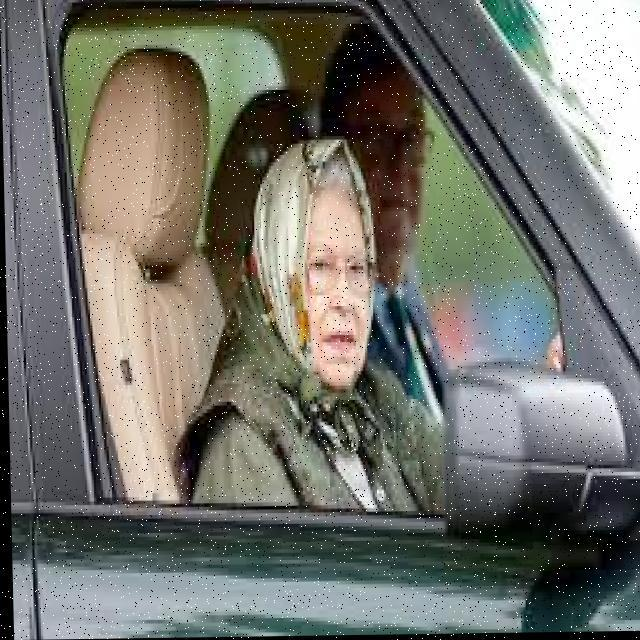noSeatbelt: (224, 329, 410, 522)
